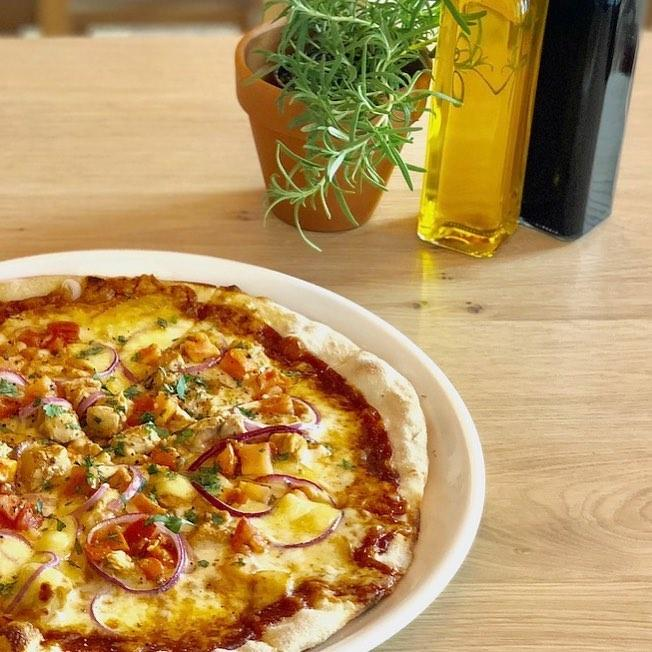Onion: (185, 425, 309, 469), (0, 551, 59, 619), (189, 480, 263, 530), (262, 513, 345, 553), (86, 564, 187, 593), (83, 511, 164, 543), (253, 471, 331, 504), (178, 344, 243, 377), (240, 390, 318, 412), (92, 336, 125, 381), (115, 461, 146, 504), (91, 592, 120, 637), (65, 486, 107, 514), (77, 391, 113, 415), (0, 369, 33, 387)
Pizza: (0, 274, 424, 652)
